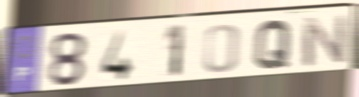0: (201, 22, 242, 75)
1: (163, 22, 187, 81)
4: (98, 28, 138, 83)
8: (46, 30, 90, 88)
N: (300, 13, 349, 69)
Q: (252, 18, 294, 71)
